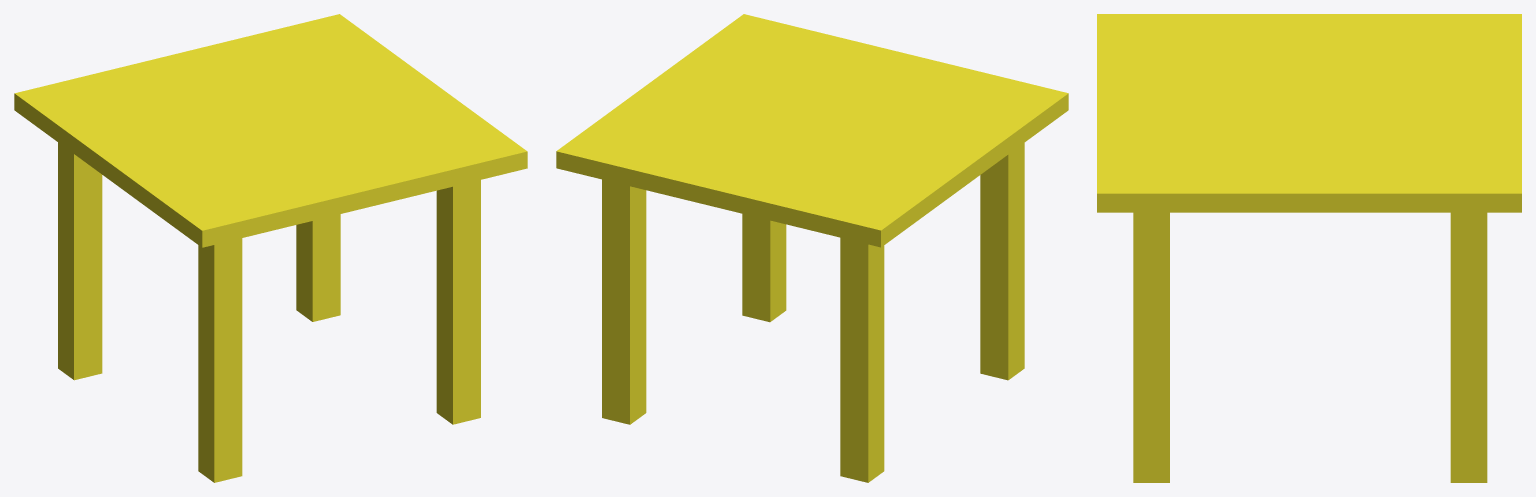
Rendered from Table.fbx.
The picture shows the model from 3 angles, left to right: view 1: azimuth 30°, elevation 25°; view 2: azimuth 150°, elevation 25°; view 3: azimuth 270°, elevation 25°; orthographic projection. The views are drawn at different scales.
Parts seen in each view (by area): view 1: Table; view 2: Table; view 3: Table.
Part boxes in pixels (x1,y1,x2,y2): Table: (14,14,527,482); Table: (556,14,1068,482); Table: (1097,14,1521,482).
Bounding box in the file's own units: 100 × 79.55 × 100.
